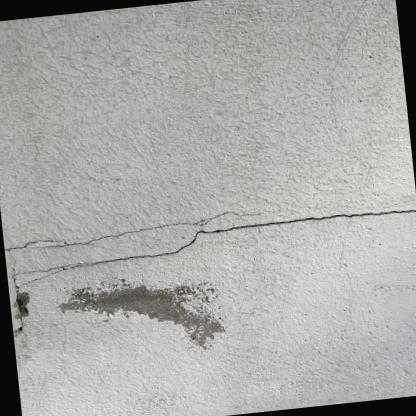crack: (81, 206, 416, 266), (3, 210, 226, 253)
